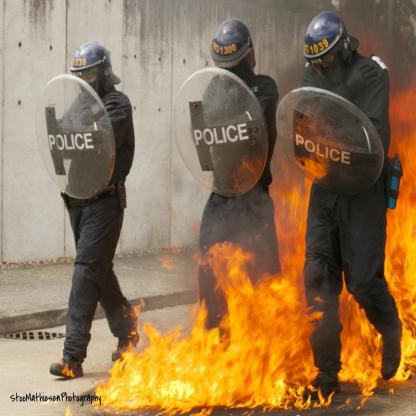Helmet: (302, 12, 360, 86), (207, 18, 254, 88), (70, 40, 111, 87)
